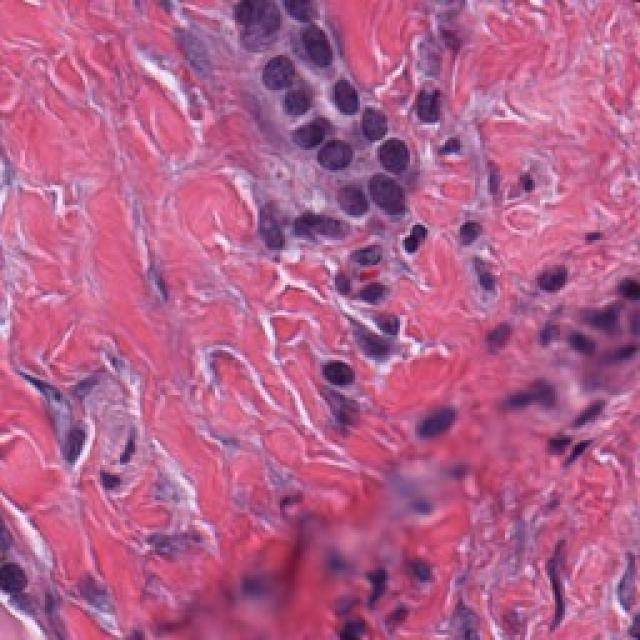normal: (369, 116, 438, 188), (295, 129, 365, 193), (234, 41, 303, 93), (331, 171, 382, 237), (319, 62, 368, 130), (287, 105, 339, 160), (276, 66, 321, 124)
